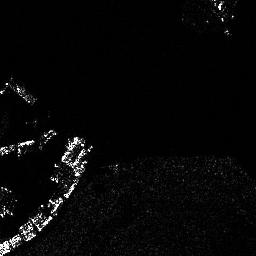ship: (8, 78, 36, 105)
